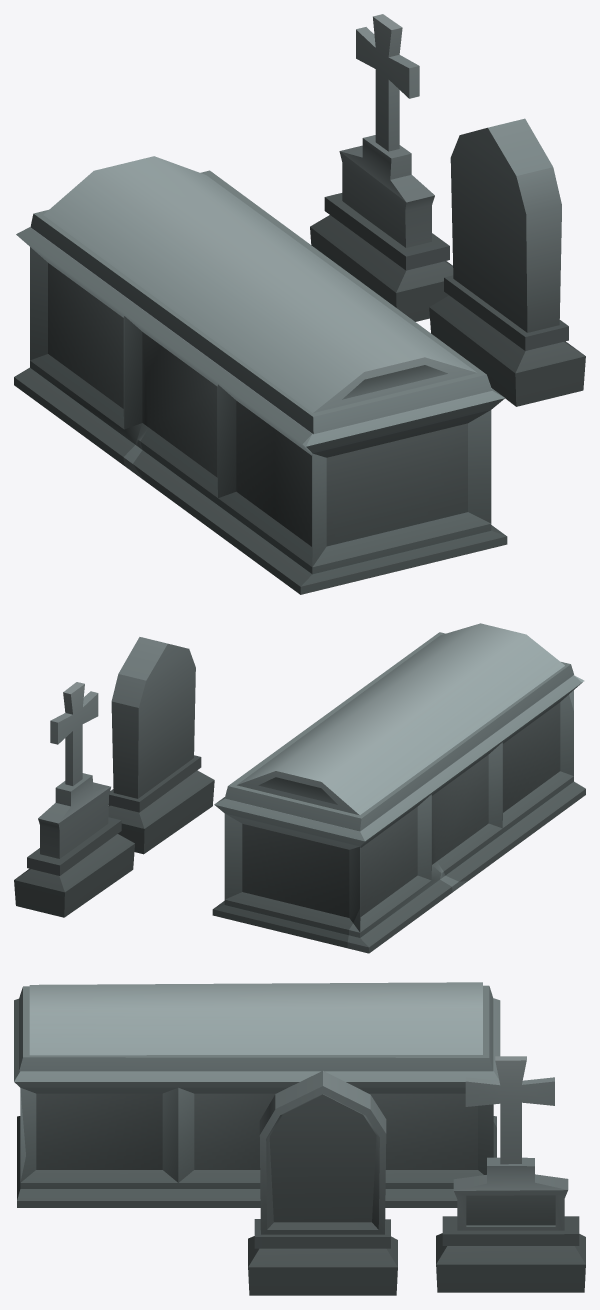
The model's file is Graveyard.fbx.
3 views of the same model, one above another, from view 1: azimuth 30°, elevation 25°; view 2: azimuth 150°, elevation 25°; view 3: azimuth 270°, elevation 25° (orthographic). The views are drawn at different scales.
Parts seen in each view (by area): view 1: Grave, Grave_top, Gravestone, Gravestone.001; view 2: Grave, Grave_top, Gravestone, Gravestone.001; view 3: Grave, Grave_top, Gravestone, Gravestone.001.
Part boxes in pixels (<box>): Grave: <box>14,227,507,594</box>; Grave_top: <box>30,156,492,434</box>; Gravestone: <box>429,118,585,406</box>; Gravestone.001: <box>310,14,453,321</box>; Grave: <box>212,675,585,953</box>; Grave_top: <box>224,623,573,831</box>; Gravestone: <box>108,637,214,854</box>; Gravestone.001: <box>14,682,134,917</box>; Grave: <box>14,998,500,1207</box>; Grave_top: <box>19,982,493,1071</box>; Gravestone: <box>248,1071,397,1295</box>; Gravestone.001: <box>436,1056,585,1292</box>.
Size of the model in its own units: 188 by 112 by 263.
